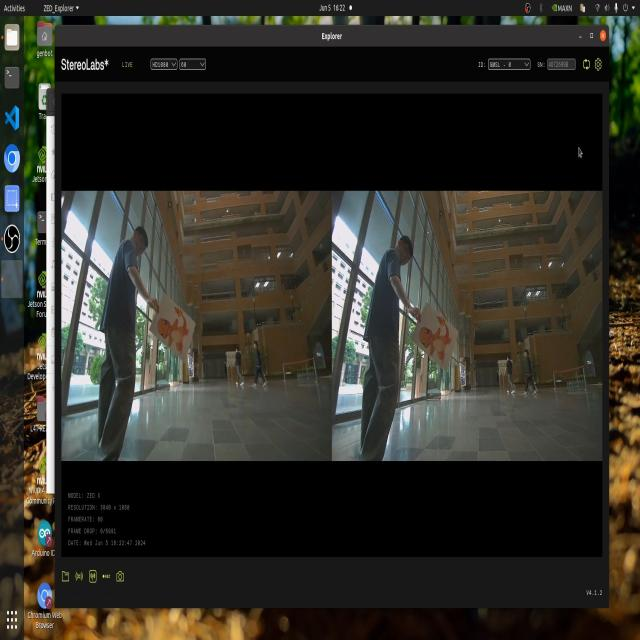red: (149, 312, 204, 358), (421, 313, 465, 370)
